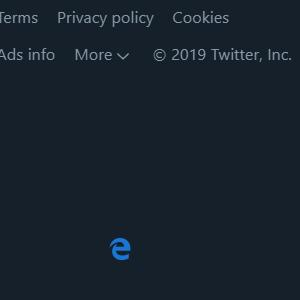edge: (109, 237, 131, 260)
